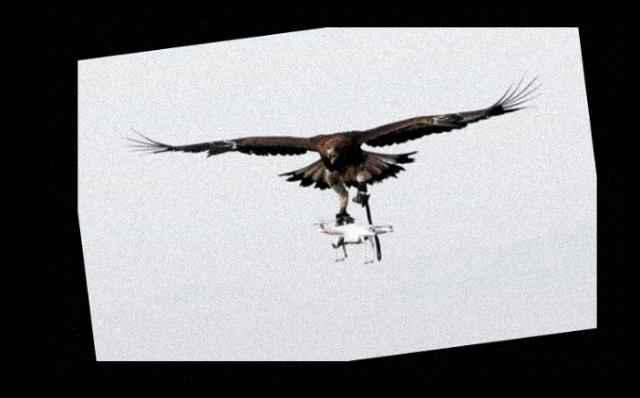Bird: (122, 77, 547, 221)
UAV: (316, 216, 399, 268)
